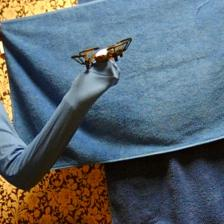drone: (71, 37, 133, 69)
